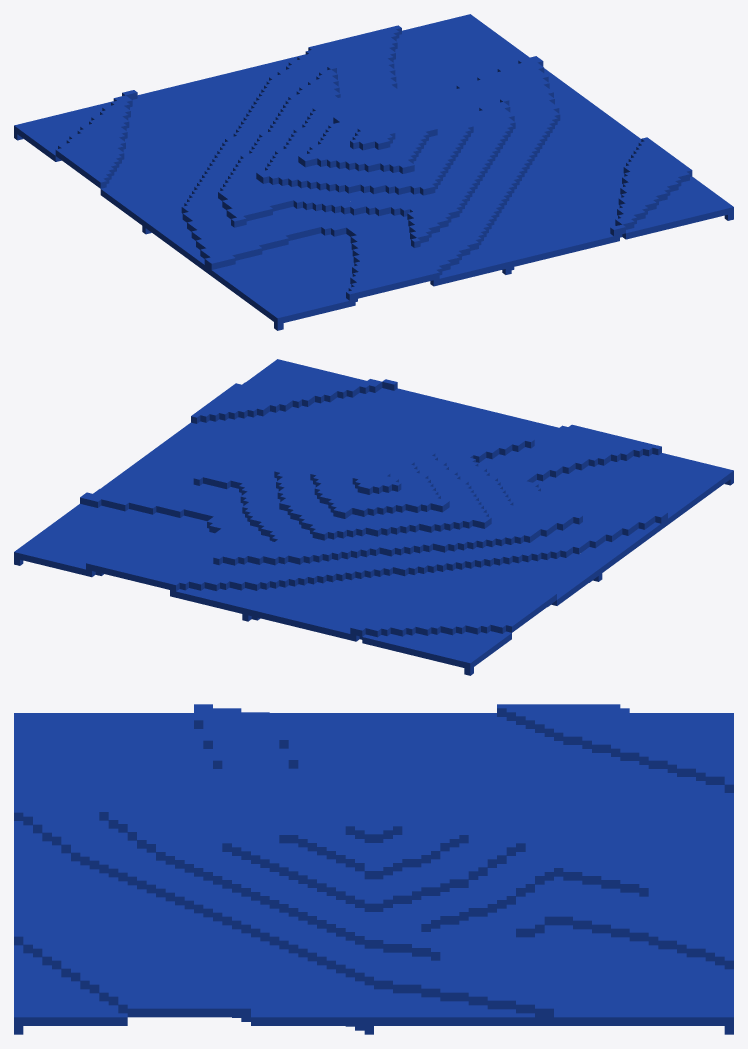
File: lycra_patch.glb
3 renders of one model, top to bottom at view 1: azimuth 30°, elevation 25°; view 2: azimuth 150°, elevation 25°; view 3: azimuth 270°, elevation 25°, orthographic. The views are drawn at different scales.
Visible parts, largest first — view 1: lycra_patch:foldedSheet; view 2: lycra_patch:foldedSheet; view 3: lycra_patch:foldedSheet.
Part boxes in pixels (x1,y1,x2,y2): lycra_patch:foldedSheet: (14,14,733,330); lycra_patch:foldedSheet: (14,359,733,675); lycra_patch:foldedSheet: (14,704,733,1034).
Bounding box in the file's own units: 0.152 × 0.014 × 0.152.
